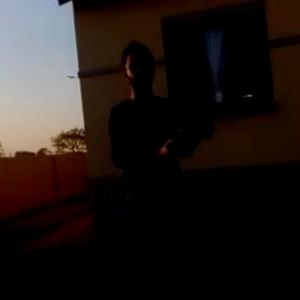follow: (100, 38, 219, 299)
